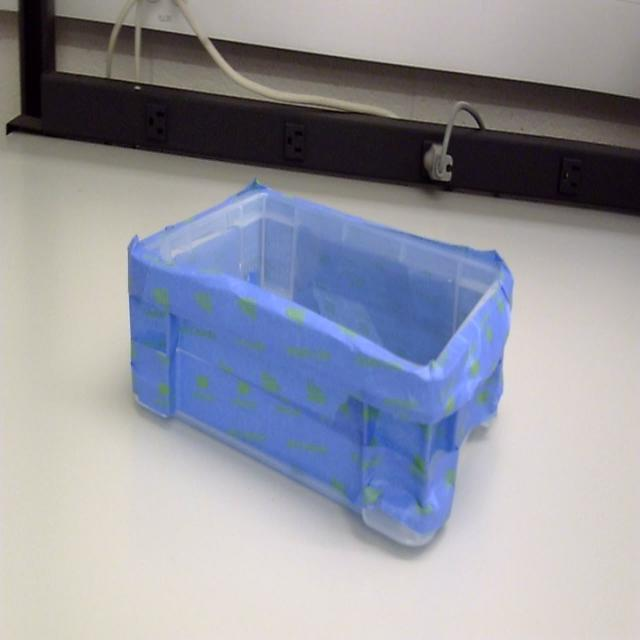bucket: (126, 183, 514, 553)
